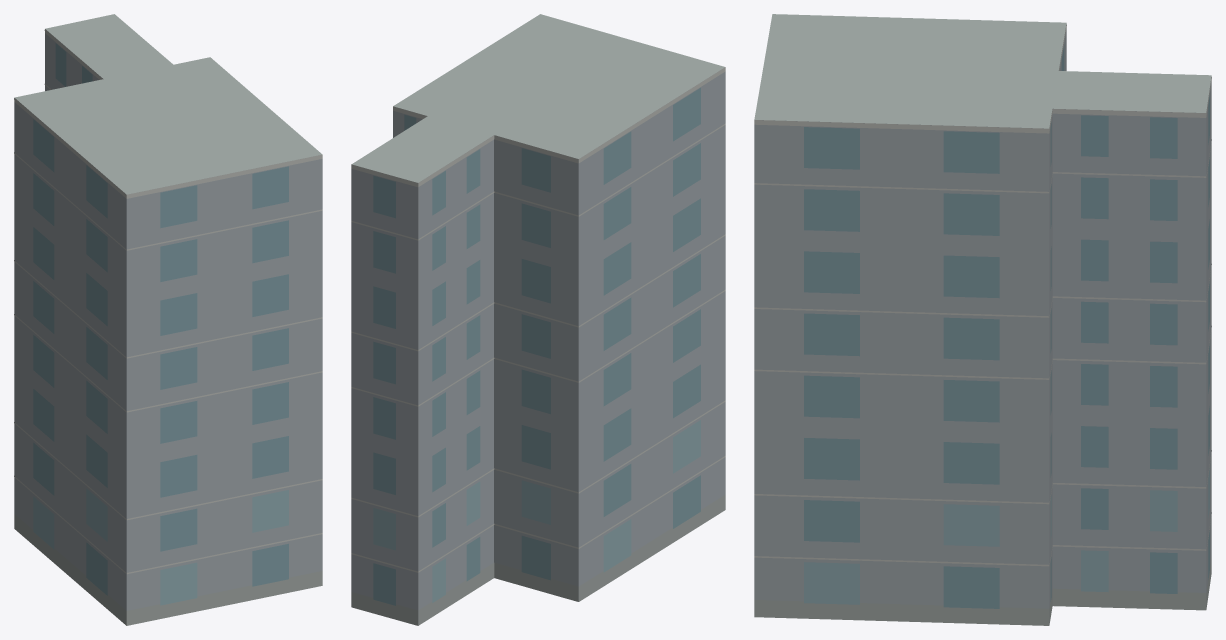
The model's file is survey-upis-32882281.glb.
3 views of the same model, side by side, from view 1: azimuth 30°, elevation 25°; view 2: azimuth 150°, elevation 25°; view 3: azimuth 270°, elevation 25° (orthographic). The views are drawn at different scales.
Parts seen in each view (by area): view 1: survey-upis-32882281.tmp; view 2: survey-upis-32882281.tmp; view 3: survey-upis-32882281.tmp.
Part boxes in pixels (<box>): survey-upis-32882281.tmp: <box>14,14,322,625</box>; survey-upis-32882281.tmp: <box>351,14,725,625</box>; survey-upis-32882281.tmp: <box>754,14,1211,625</box>.
Size of the model in its own units: 12.21 by 24.65 by 20.57.
